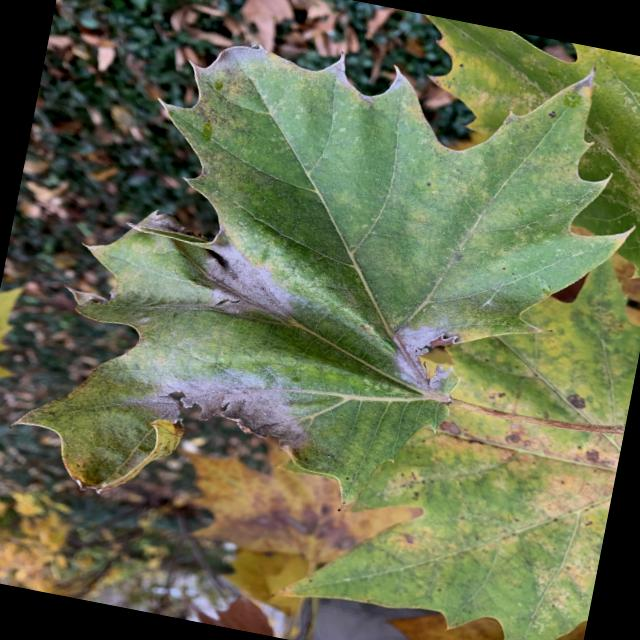powdery_mildew: (22, 47, 629, 502)
